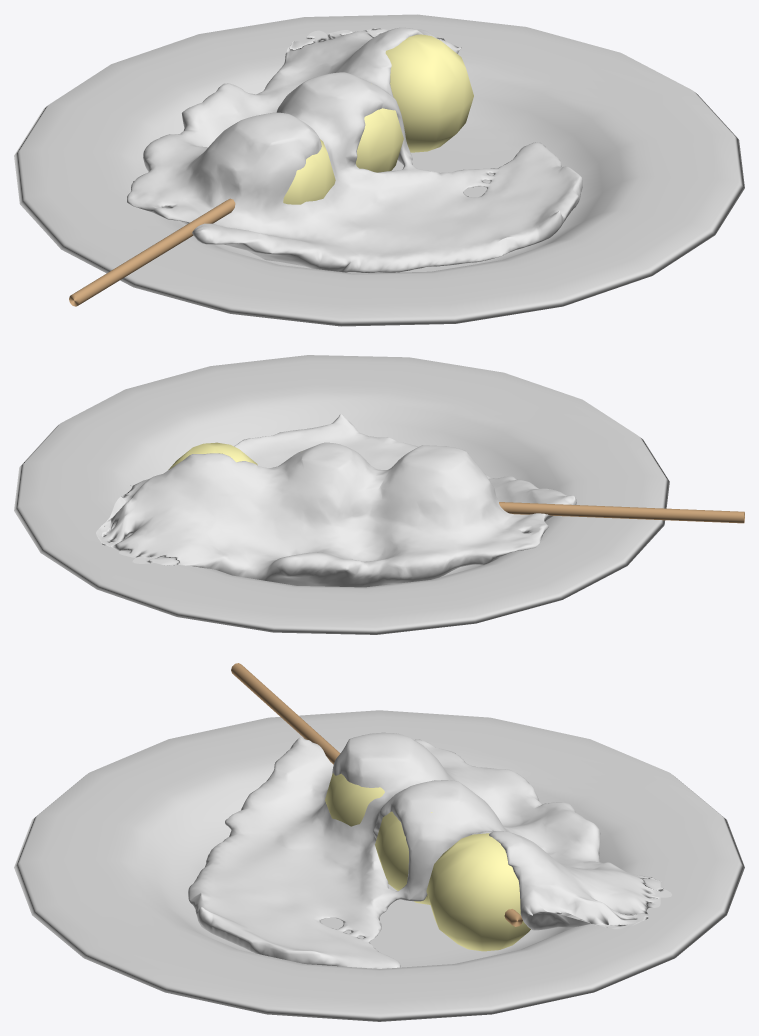
File: dango.fbx
3 renders of one model, top to bottom at view 1: azimuth 30°, elevation 25°; view 2: azimuth 150°, elevation 25°; view 3: azimuth 270°, elevation 25°, orthographic. The views are drawn at different scales.
Parts seen in each view (by area): view 1: Cylinder.001, Liquid Domain, Cylinder; view 2: Cylinder.001, Liquid Domain, Cylinder; view 3: Cylinder.001, Liquid Domain, Cylinder.
Boxes of the visible parts, left/top/right/bottom form: Cylinder.001: left=14, top=14, right=744, bottom=326; Liquid Domain: left=127, top=27, right=582, bottom=272; Cylinder: left=69, top=34, right=473, bottom=306; Cylinder.001: left=14, top=355, right=669, bottom=634; Liquid Domain: left=96, top=414, right=576, bottom=587; Cylinder: left=168, top=442, right=744, bottom=523; Cylinder.001: left=14, top=710, right=744, bottom=1021; Liquid Domain: left=188, top=732, right=671, bottom=968; Cylinder: left=231, top=663, right=530, bottom=951.
Bounding box in the file's own units: 1338 × 209 × 1221.
